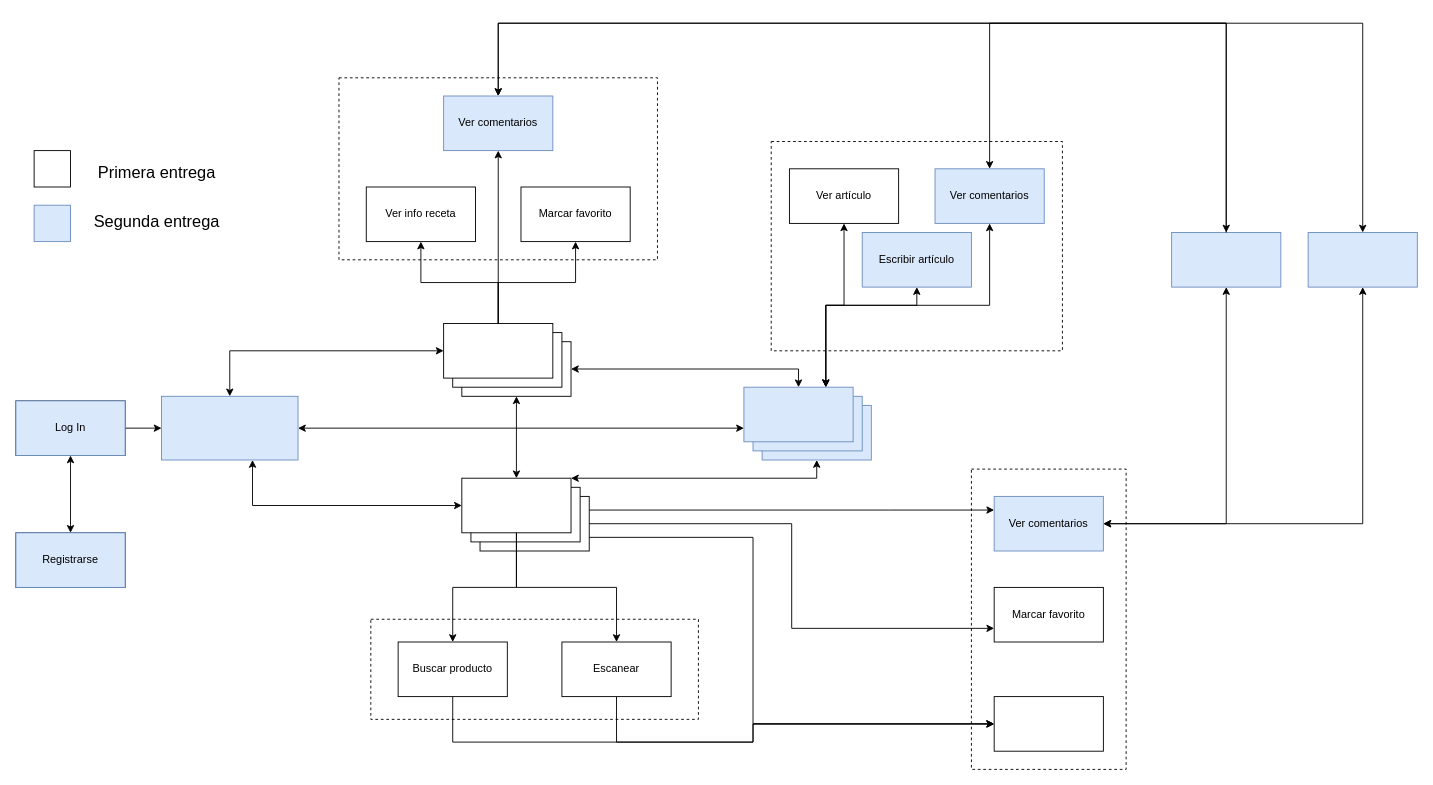
This 1433x785 diagram has some shape labels left out. The centre of each missing label's shape, as x and y in pixels:
Blogs: [798,414]
Comentar: [1226,259]
Dar like a comentario: [1362,259]
Inicio/Recomendaciones: [229,427]
Producto alimenticio: [516,505]
Receta: [498,350]
Ver info producto: [1048,723]
